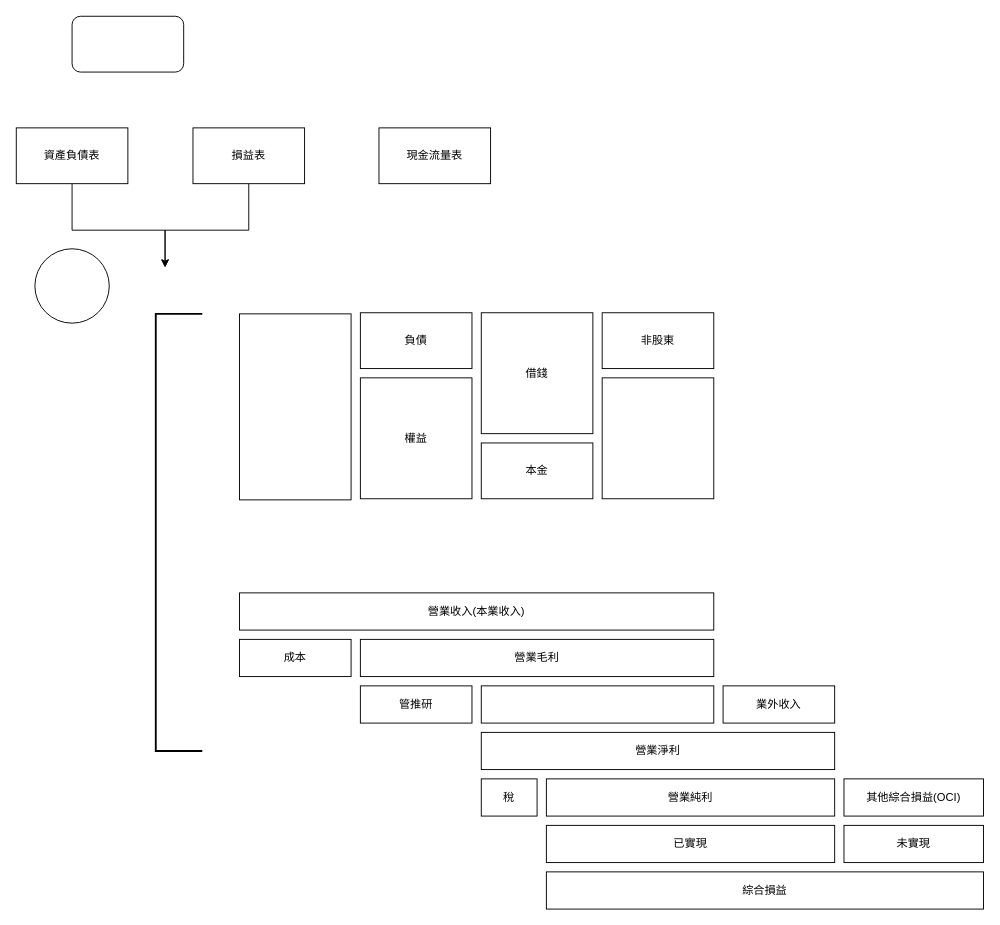
The diagram is 1000 pixels wide and 925 high, and some of its shapes have lost their labels. The centre of each missing label's shape, as x and y in pixels:
"ROE" goes at [71,285].
"營業利益" goes at [597,704].
"股東" goes at [657,438].
"資產" goes at [295,406].
